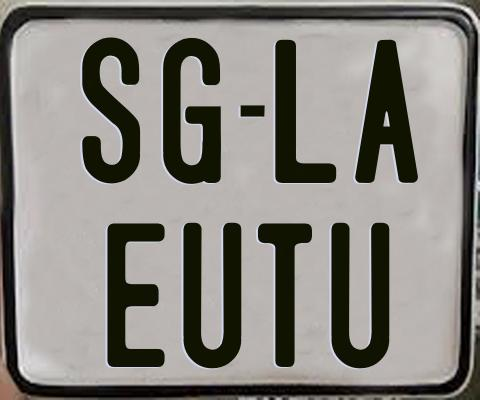A: (352, 37, 419, 182)
E: (107, 220, 168, 368)
G: (162, 37, 223, 187)
L: (273, 38, 338, 185)
S: (81, 37, 139, 187)
T: (256, 223, 316, 369)
U: (180, 222, 243, 368), (330, 221, 390, 367)
